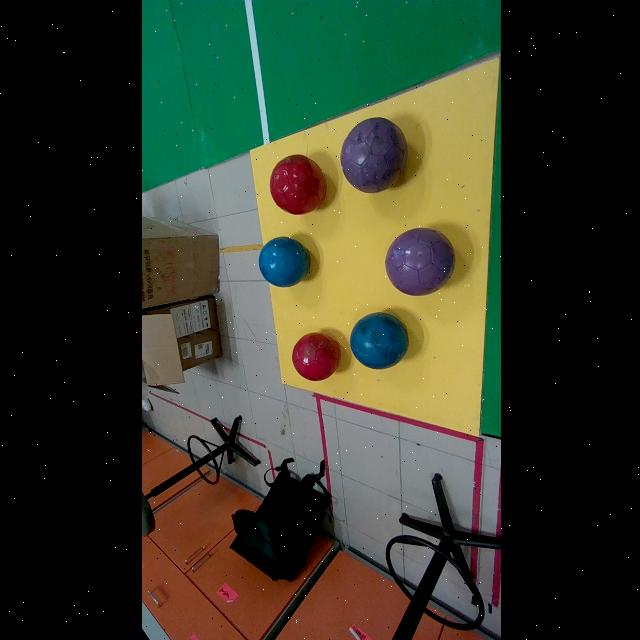B: (349, 312, 407, 370), (257, 237, 308, 288)
P: (340, 118, 406, 193), (384, 228, 453, 296)
R: (270, 154, 324, 215), (290, 332, 338, 381)
